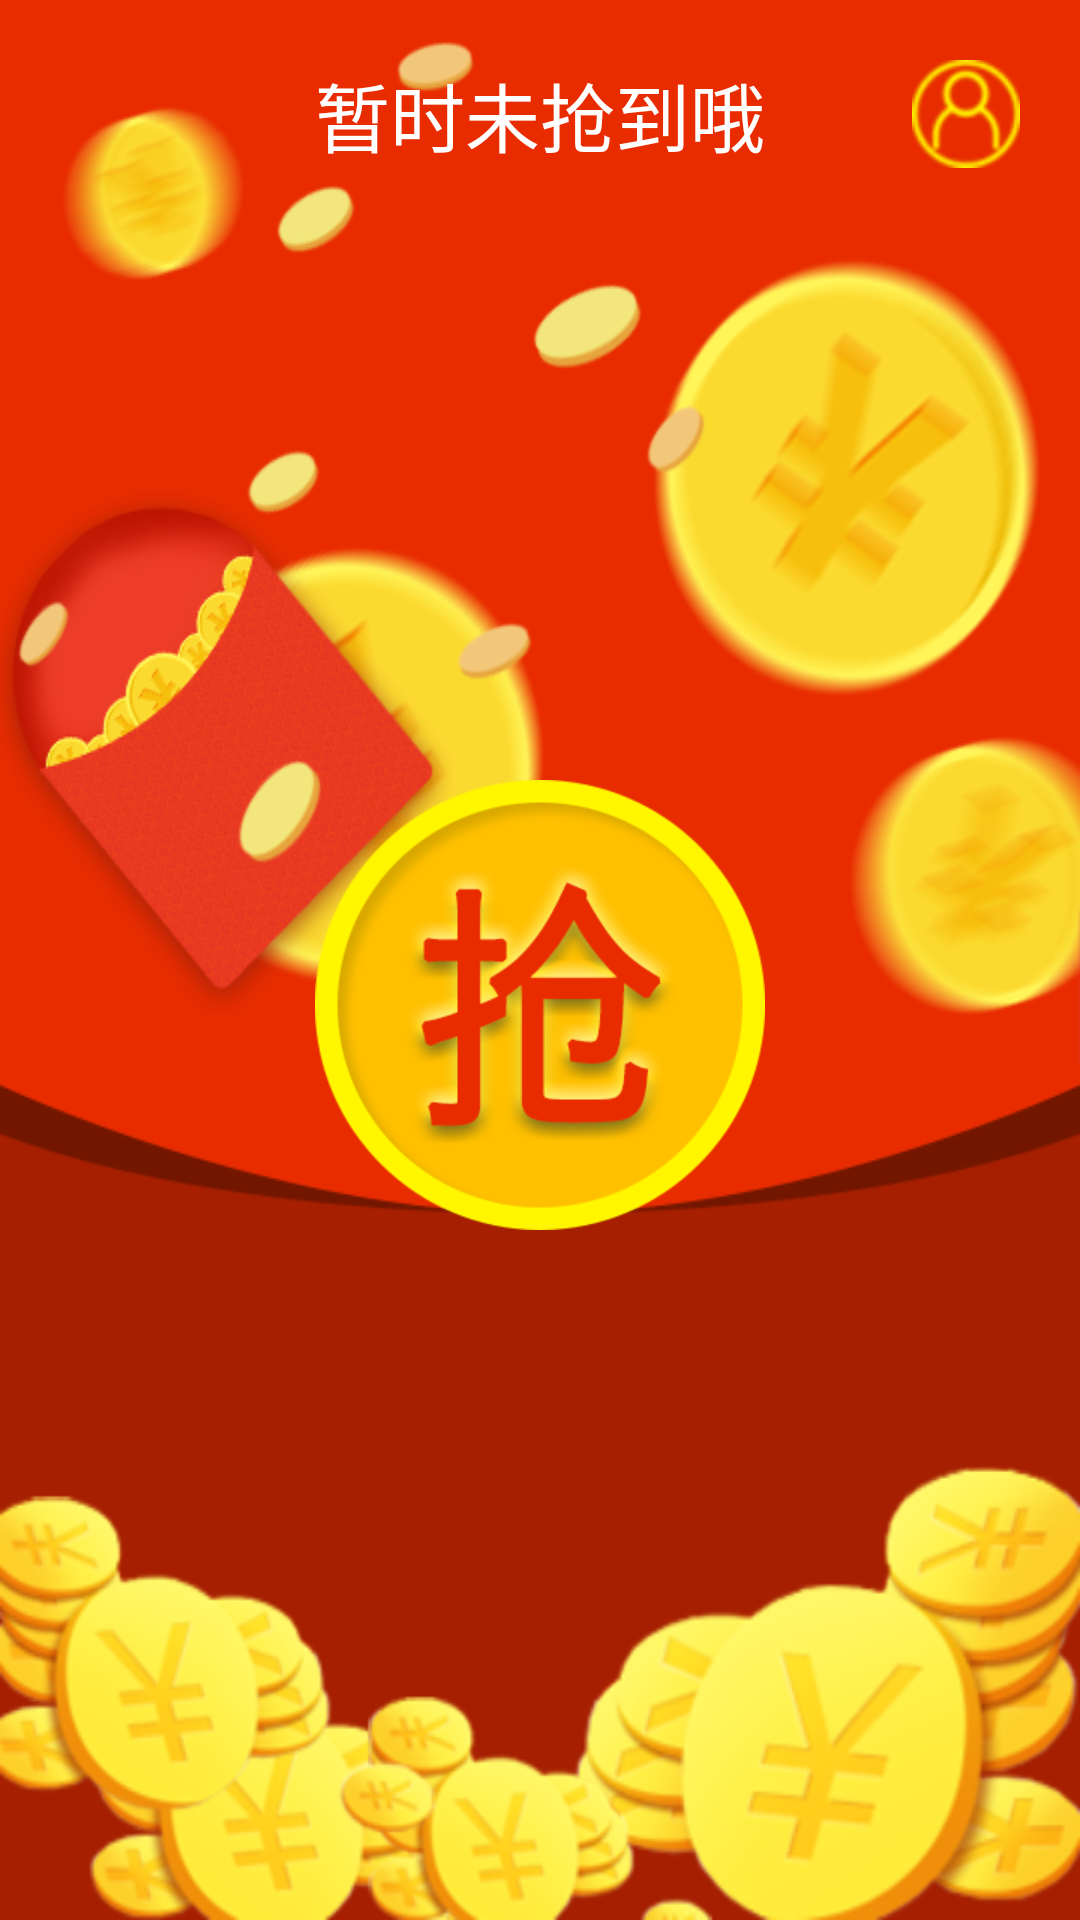

Icons on this 1080w x 1920h Android screen, each with the point to tap as (x=x, y=y):
personal center: (x=966, y=114)
